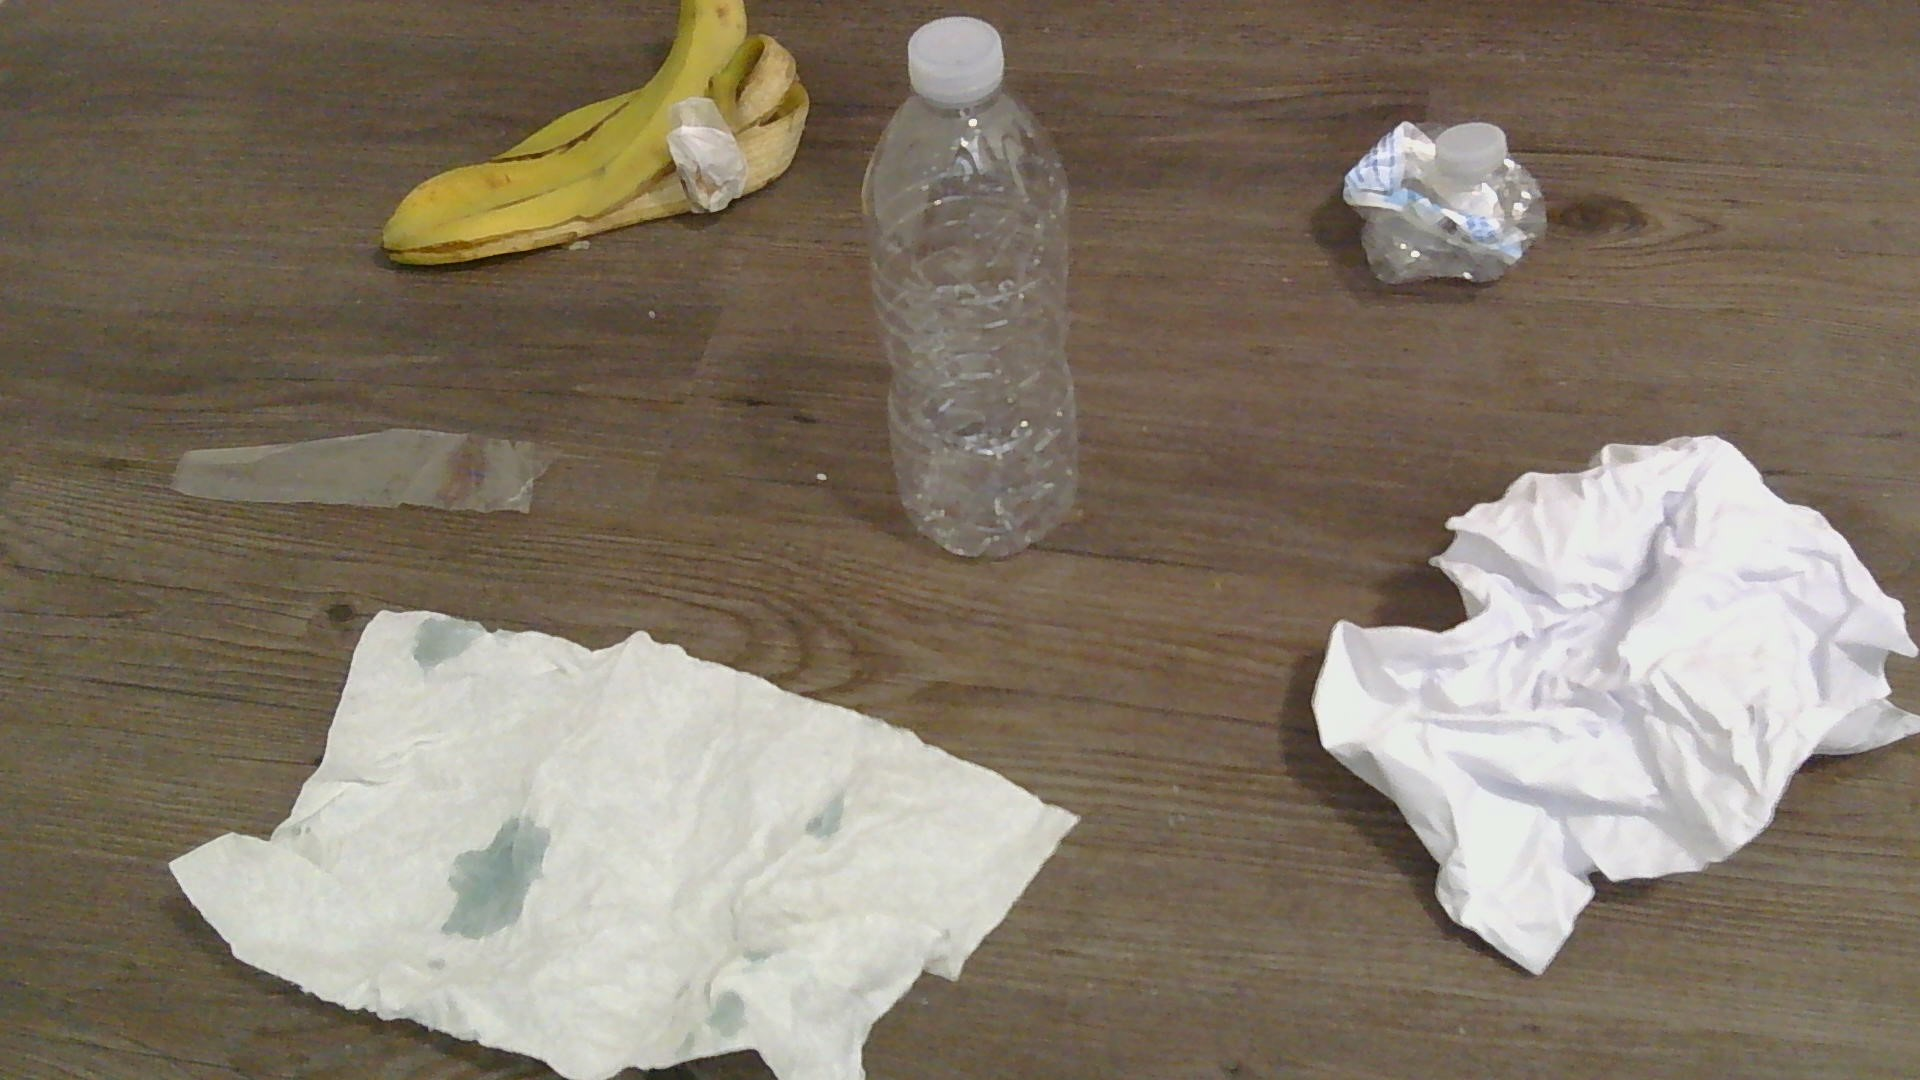banana peel: (378, 0, 807, 266)
bottle: (858, 7, 1083, 555)
crushed bottle: (1338, 113, 1551, 291)
napkin: (173, 605, 1079, 1079)
paper: (1313, 426, 1917, 975)
paperweight: (1338, 113, 1551, 291)
plastic piece: (174, 426, 555, 520)
